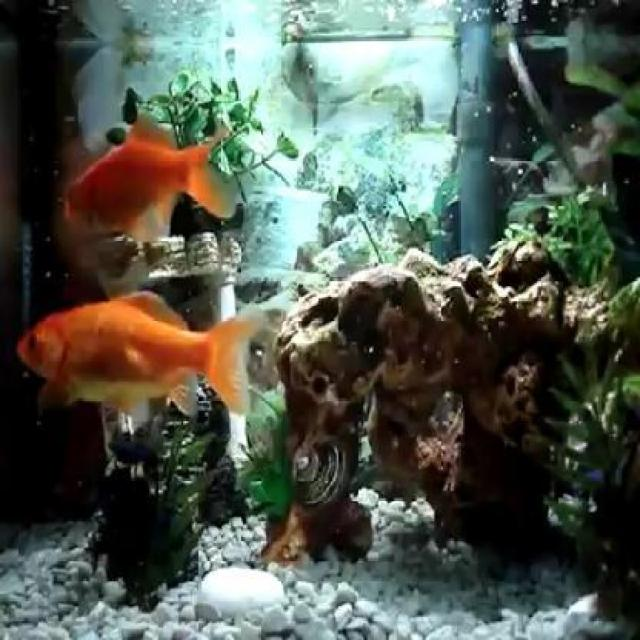GoldFish: (15, 288, 268, 414), (61, 115, 239, 243)
